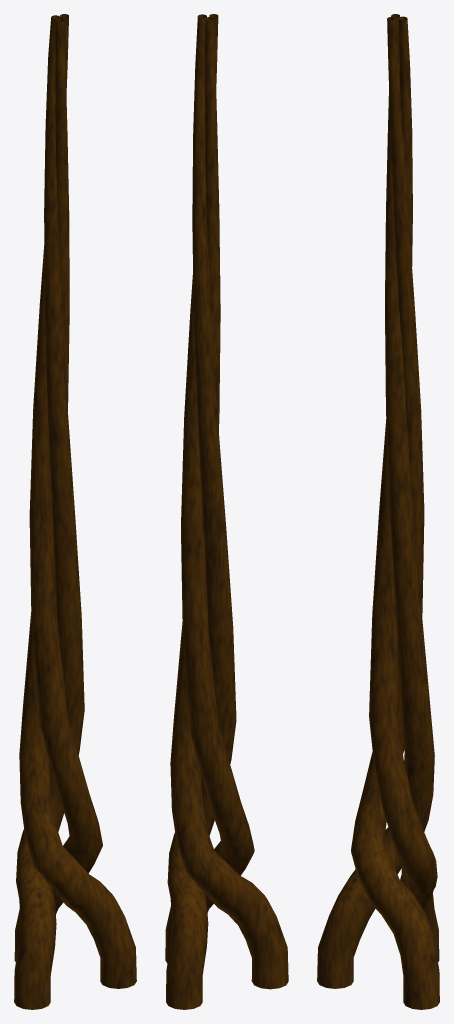
File: TreeTrunk.fbx
3 views of the same model, side by side, from view 1: azimuth 30°, elevation 25°; view 2: azimuth 150°, elevation 25°; view 3: azimuth 330°, elevation 25° (orthographic).
Parts seen in each view (by area): view 1: BezierCurve.001_Curve.001; view 2: BezierCurve.001_Curve.001; view 3: BezierCurve.001_Curve.001.
Boxes of the visible parts, x1,y1,x2,y2 form: BezierCurve.001_Curve.001: [14, 14, 136, 1009]; BezierCurve.001_Curve.001: [165, 14, 288, 1009]; BezierCurve.001_Curve.001: [317, 14, 439, 1009].
Bounding box in the file's own units: 138 × 1078 × 124.
1 material, 1 textured.
